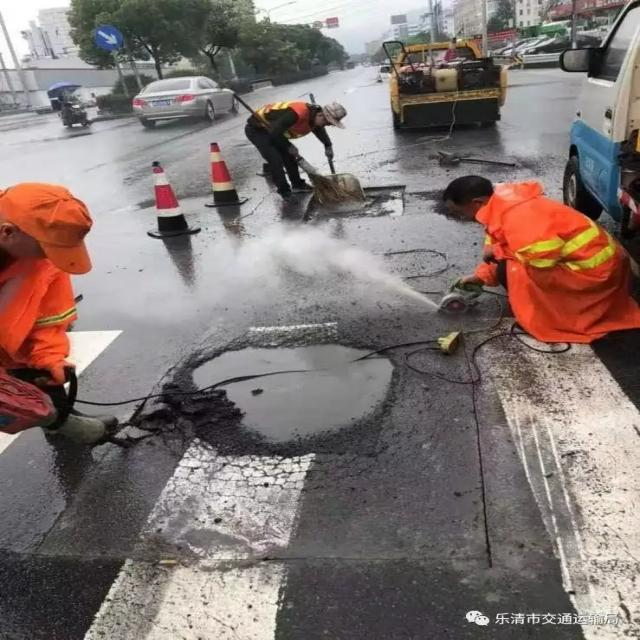Pothole: (164, 341, 402, 448), (300, 188, 422, 228)
